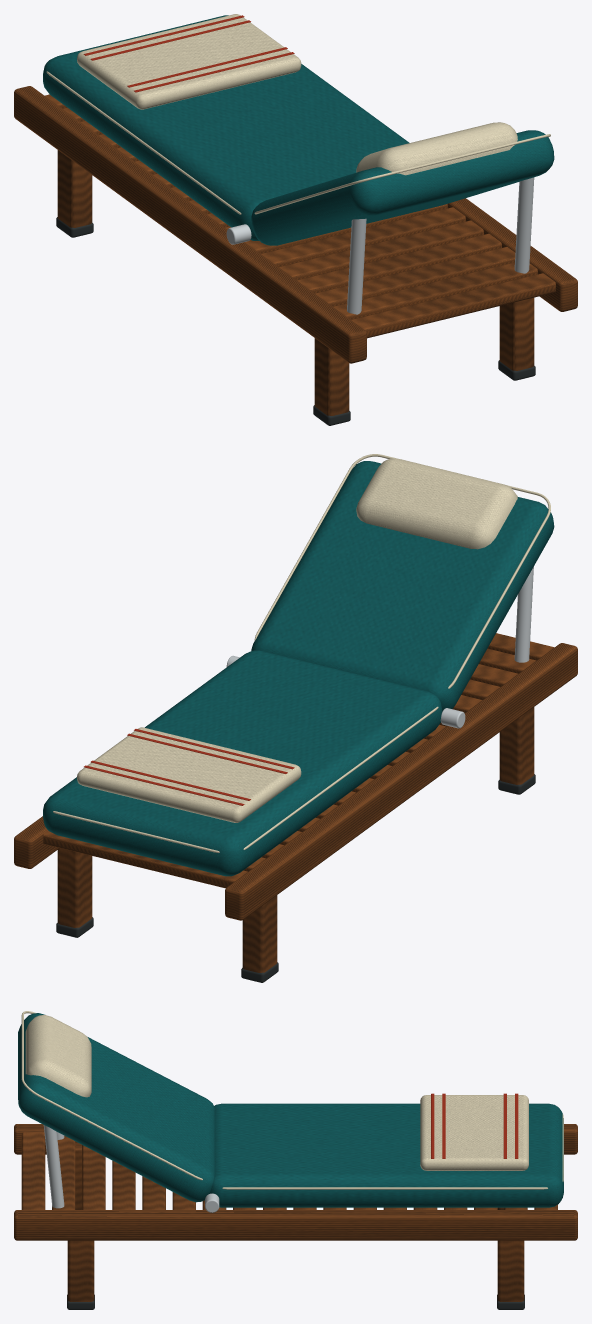
Rendered from teak-lounger.glb.
3 renders of one model, top to bottom at view 1: azimuth 30°, elevation 25°; view 2: azimuth 150°, elevation 25°; view 3: azimuth 270°, elevation 25°, orthographic. The views are drawn at different scales.
Parts seen in each view (by area): view 1: seat-cushion, teak-side-rail, reclined-back-cushion, folded-pool-towel, spaced-teak-slat, head-pillow, spaced-teak-slat.003, spaced-teak-slat.005, spaced-teak-slat.004, spaced-teak-slat.002, spaced-teak-slat.001, teak-side-rail.001 (+8 smaller); view 2: seat-cushion, reclined-back-cushion, teak-side-rail, folded-pool-towel, head-pillow, tapered-leg.003, spaced-teak-slat.017, tapered-leg, tapered-leg.001, back-welt, teak-side-rail.001, back-support (+3 smaller); view 3: seat-cushion, teak-side-rail.001, reclined-back-cushion, folded-pool-towel, head-pillow, spaced-teak-slat, tapered-leg.002, tapered-leg.003, spaced-teak-slat.002, spaced-teak-slat.001, seat-welt, spaced-teak-slat.003 (+5 smaller).
Part boxes in pixels (<box>): seat-cushion: <box>43,15,409,240</box>; teak-side-rail: <box>14,86,366,363</box>; reclined-back-cushion: <box>251,130,554,245</box>; folded-pool-towel: <box>77,14,301,109</box>; spaced-teak-slat: <box>351,273,555,338</box>; head-pillow: <box>356,122,517,175</box>; spaced-teak-slat.003: <box>297,233,501,293</box>; spaced-teak-slat.005: <box>261,207,465,266</box>; spaced-teak-slat.004: <box>279,220,483,280</box>; spaced-teak-slat.002: <box>315,247,515,306</box>; spaced-teak-slat.001: <box>333,262,537,319</box>; teak-side-rail.001: <box>447,198,577,311</box>; seat-cushion: <box>43,650,442,876</box>; reclined-back-cushion: <box>251,461,554,711</box>; teak-side-rail: <box>225,643,577,920</box>; folded-pool-towel: <box>77,727,301,822</box>; head-pillow: <box>356,458,517,549</box>; tapered-leg.003: <box>57,848,92,927</box>; spaced-teak-slat.017: <box>43,830,247,888</box>; tapered-leg: <box>499,707,534,784</box>; tapered-leg.001: <box>242,895,277,972</box>; back-welt: <box>254,454,550,688</box>; teak-side-rail.001: <box>14,816,59,868</box>; back-support: <box>514,566,533,662</box>; seat-cushion: <box>209,1103,563,1207</box>; teak-side-rail.001: <box>14,1210,577,1240</box>; reclined-back-cushion: <box>18,1013,214,1202</box>; folded-pool-towel: <box>420,1095,528,1170</box>; head-pillow: <box>25,1015,91,1097</box>; spaced-teak-slat: <box>21,1132,45,1209</box>; tapered-leg.002: <box>67,1240,94,1301</box>; tapered-leg.003: <box>497,1240,524,1301</box>; spaced-teak-slat.002: <box>82,1145,105,1209</box>; spaced-teak-slat.001: <box>52,1135,75,1209</box>; seat-welt: <box>222,1114,563,1189</box>; spaced-teak-slat.003: <box>112,1160,135,1209</box>.
Size of the model in its own units: 0.8 by 0.9112 by 2.02.
6 materials, 4 textured.
